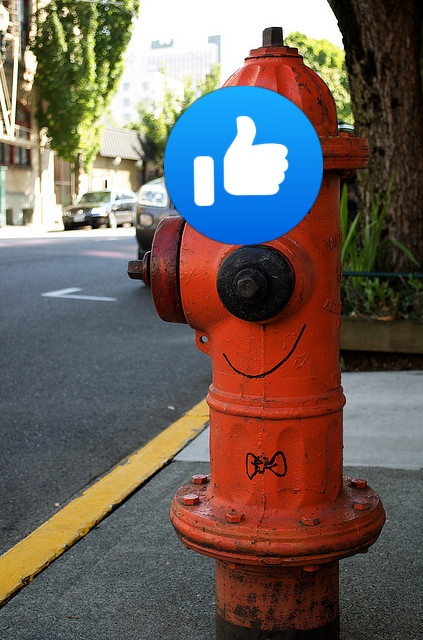like: (164, 86, 323, 245)
